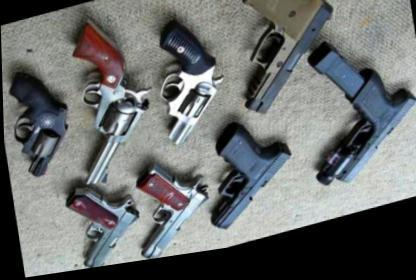pistol: (57, 7, 160, 193), (225, 0, 349, 134), (299, 66, 415, 204), (191, 118, 300, 240), (144, 10, 230, 154), (122, 160, 218, 264), (6, 59, 74, 186), (66, 176, 147, 270)
